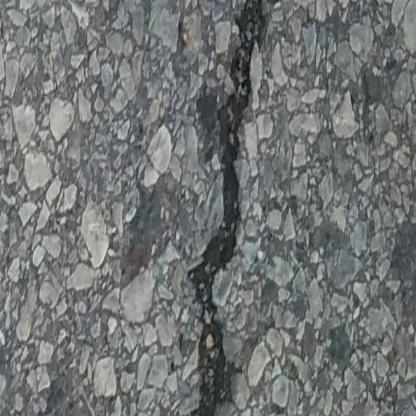Cracks: (188, 0, 284, 416)
